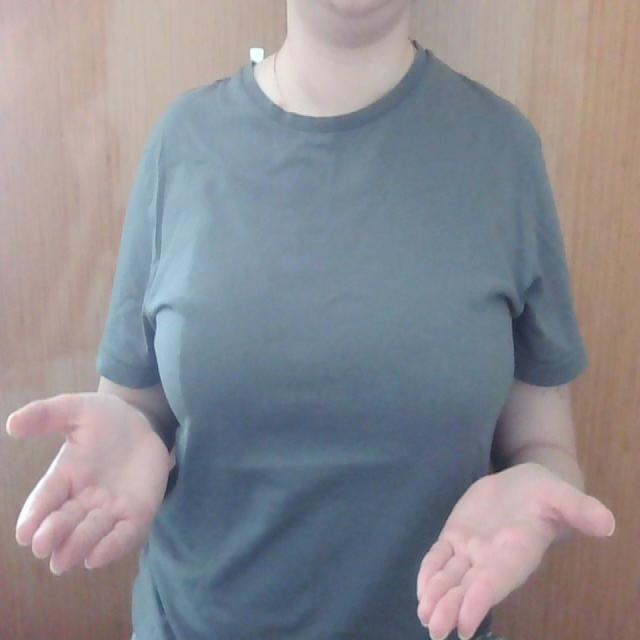Evet: (2, 385, 619, 640)
